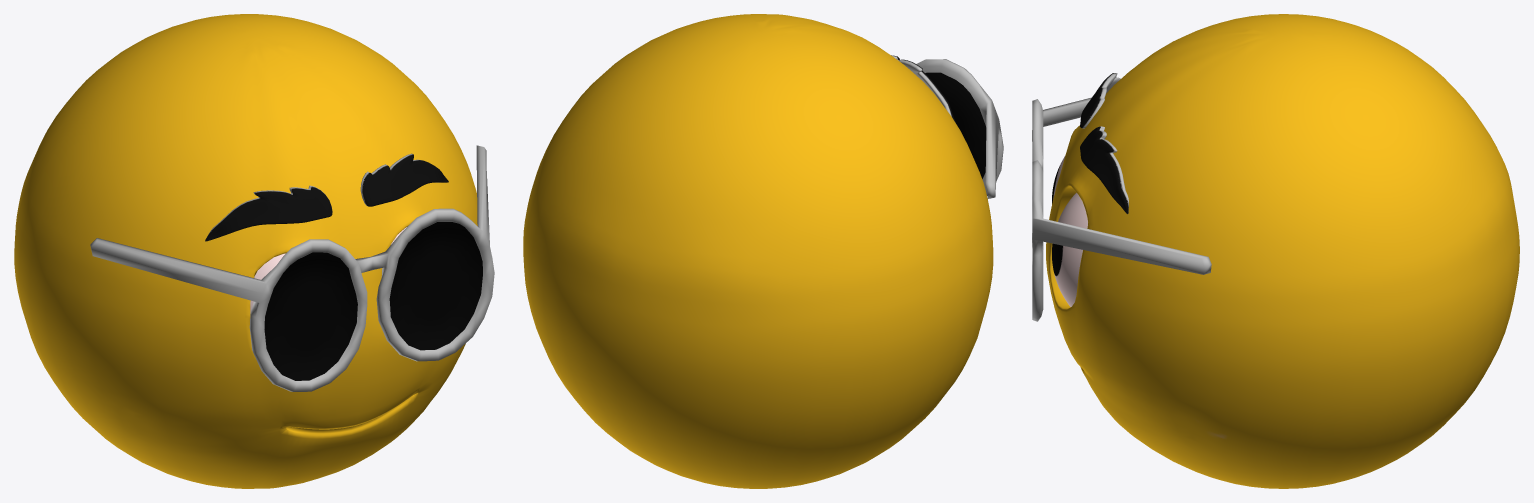
Rendered from cool_000006.obj.
The picture shows the model from 3 angles, left to right: view 1: azimuth 30°, elevation 25°; view 2: azimuth 150°, elevation 25°; view 3: azimuth 270°, elevation 25°; orthographic projection.
Parts seen in each view (by area): view 1: Smiley_goggle:Smiley_Untitled.001; view 2: Smiley_goggle:Smiley_Untitled.001; view 3: Smiley_goggle:Smiley_Untitled.001.
Boxes of the visible parts, x1=… form: Smiley_goggle:Smiley_Untitled.001: x1=14, y1=14, x2=494, y2=488; Smiley_goggle:Smiley_Untitled.001: x1=523, y1=14, x2=1003, y2=488; Smiley_goggle:Smiley_Untitled.001: x1=1032, y1=14, x2=1519, y2=488.
Size of the model in its own units: 0.0425 by 0.0431 by 0.044.
2 materials, 2 textured.
